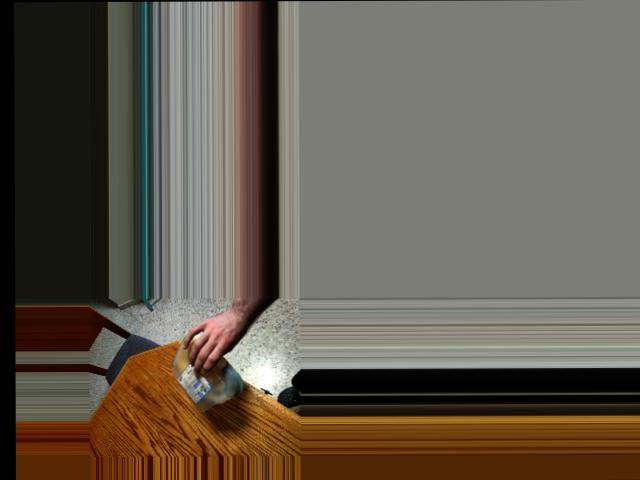cheese: (169, 325, 242, 415)
